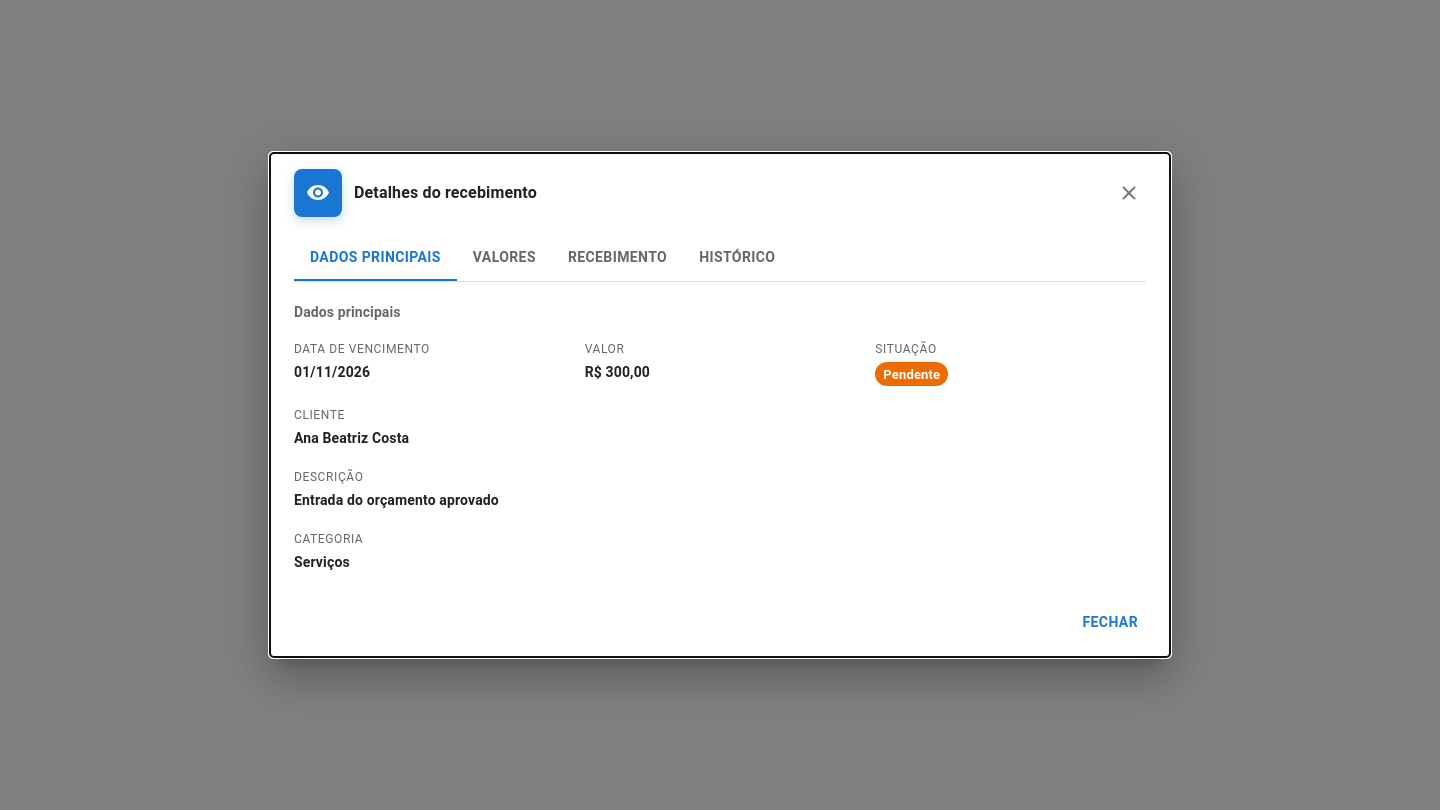
Test case: DetalhesDialog › título sem recebimento mostra traços nas datas e o histórico vazio
The width and height of the screenshot is (1440, 810).
Click the tab "Recebimento".
click(618, 257)  # box x1=552 y1=233 x2=683 y2=281
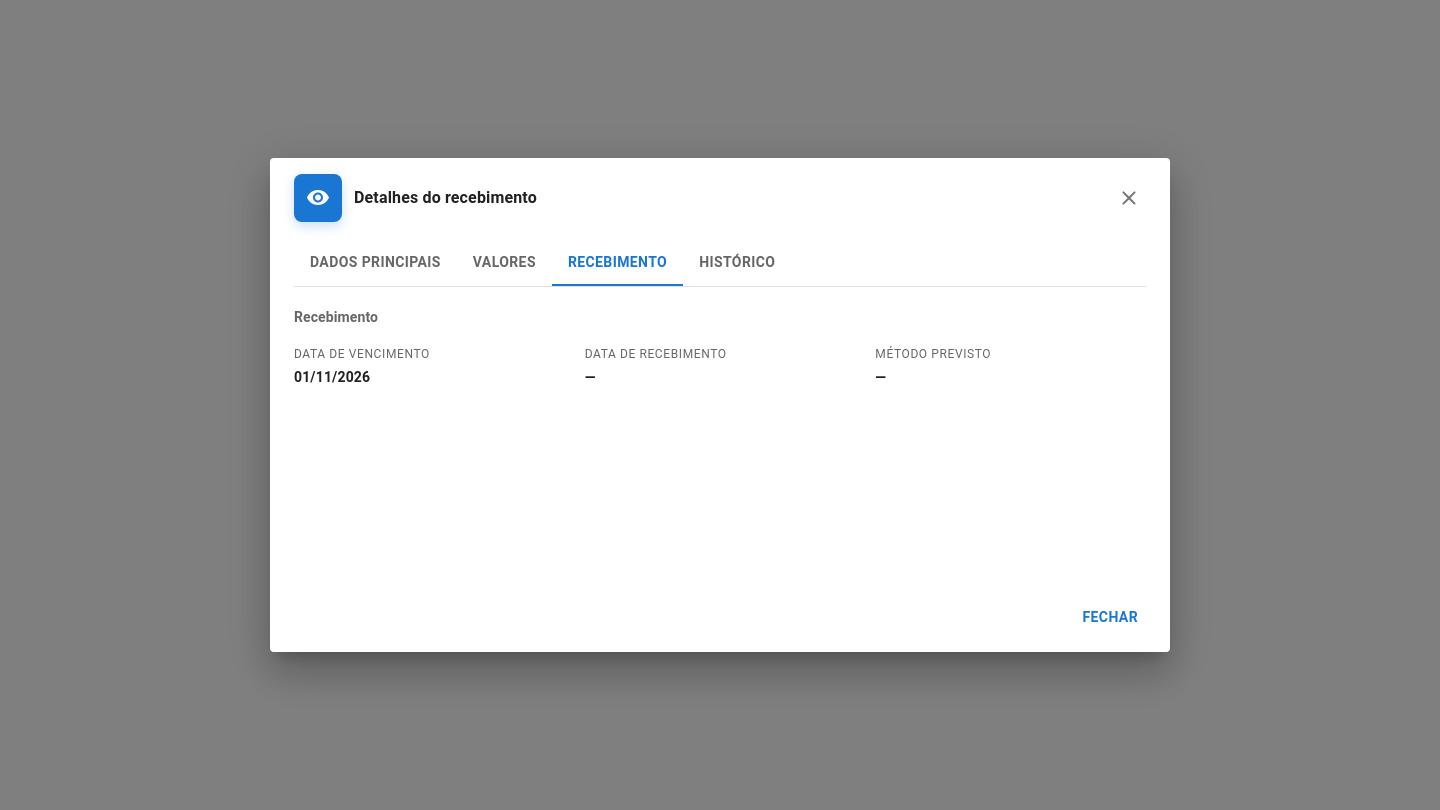
Click the tab "Histórico".
click(737, 262)  # box x1=683 y1=238 x2=791 y2=286
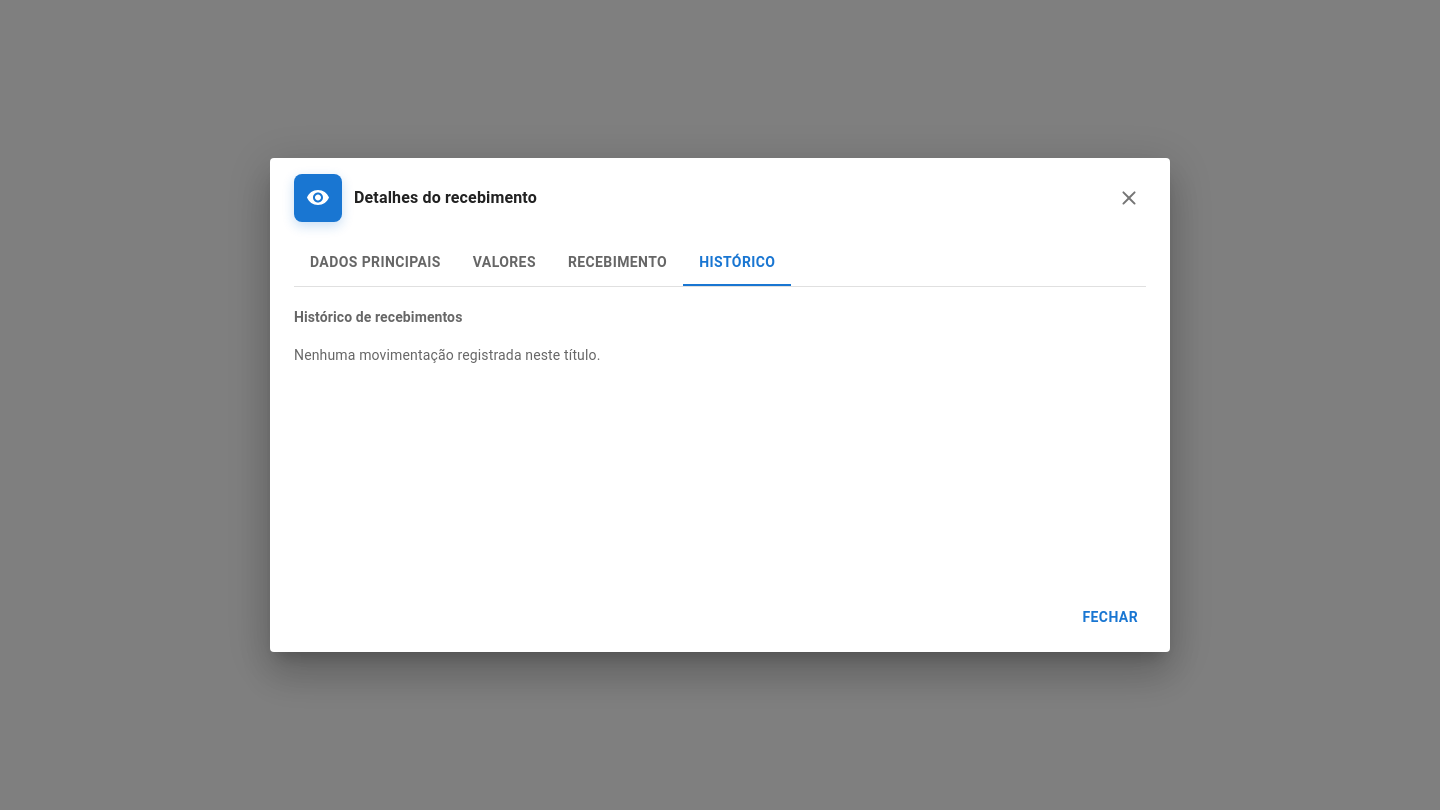
Check: the text "Nenhuma movimentação registrada neste título." is shown, box x1=294 y1=347 x2=600 y2=363
